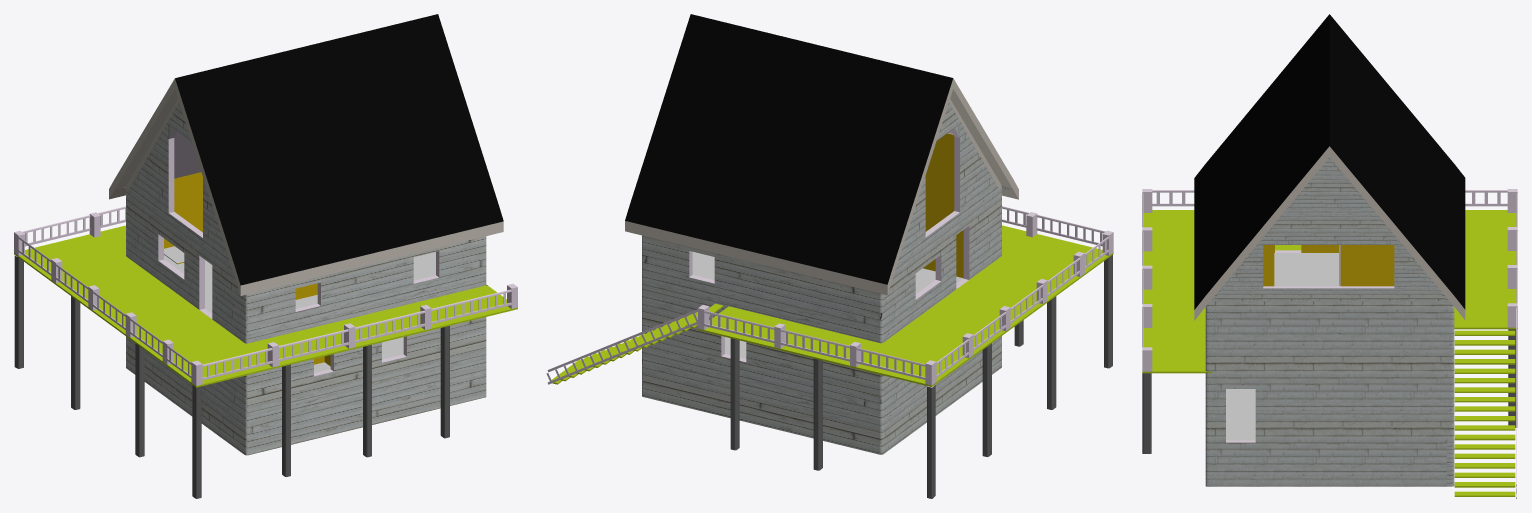
Rendered from housec3.fbx.
3 views of the same model, side by side, from view 1: azimuth 30°, elevation 25°; view 2: azimuth 150°, elevation 25°; view 3: azimuth 270°, elevation 25° (orthographic). The views are drawn at different scales.
Parts seen in each view (by area): view 1: House; view 2: House; view 3: House.
Boxes of the visible parts, x1=… form: House: x1=14, y1=14, x2=517, y2=498; House: x1=546, y1=14, x2=1113, y2=498; House: x1=1142, y1=14, x2=1517, y2=498.
Size of the model in its own units: 3099 by 2591 by 2529.
